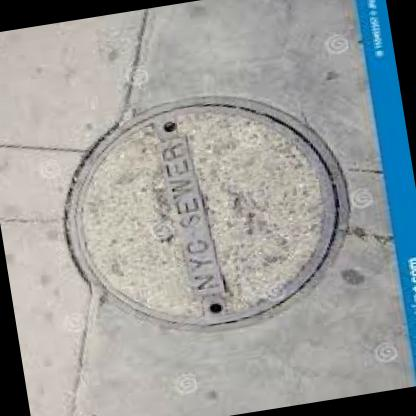manholes: (9, 51, 393, 384)
